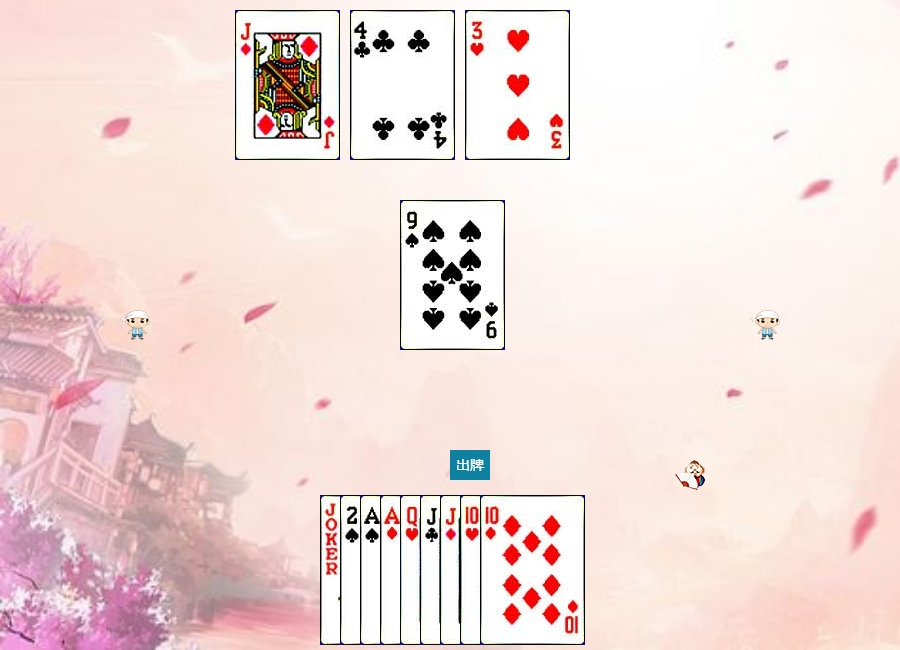10~1: (480, 495, 585, 645)
10~3: (460, 495, 565, 645)
11~1: (235, 10, 340, 160), (440, 495, 545, 645)
11~2: (420, 495, 525, 645)
12~3: (400, 495, 505, 645)
14~1: (380, 495, 485, 645)
14~4: (360, 495, 465, 645)
15~4: (340, 495, 445, 645)
18~4: (320, 495, 425, 645)
3~3: (465, 10, 570, 160)
4~2: (350, 10, 455, 160)
9~4: (400, 200, 505, 350)
